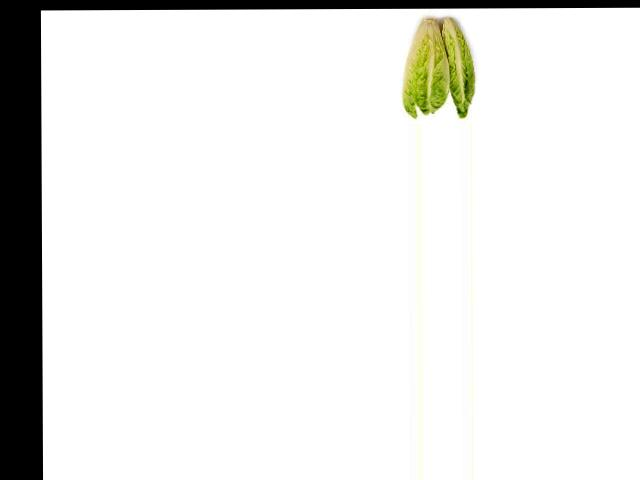lettuce: (439, 11, 485, 119)
